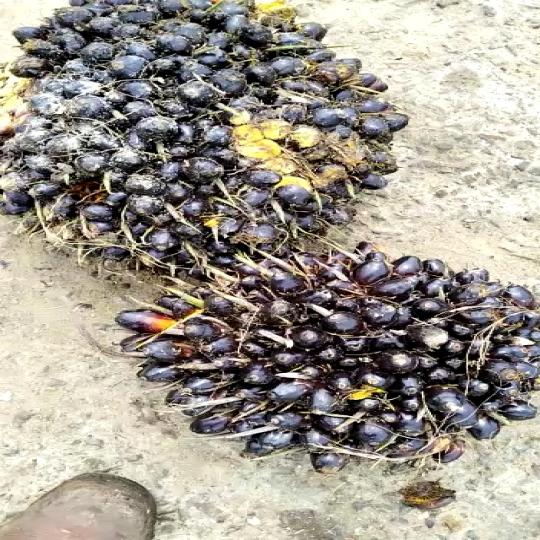mentah: (115, 233, 540, 483), (0, 0, 380, 276)
